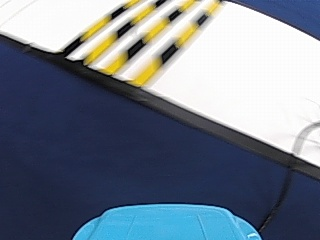bump: (70, 1, 192, 72)
